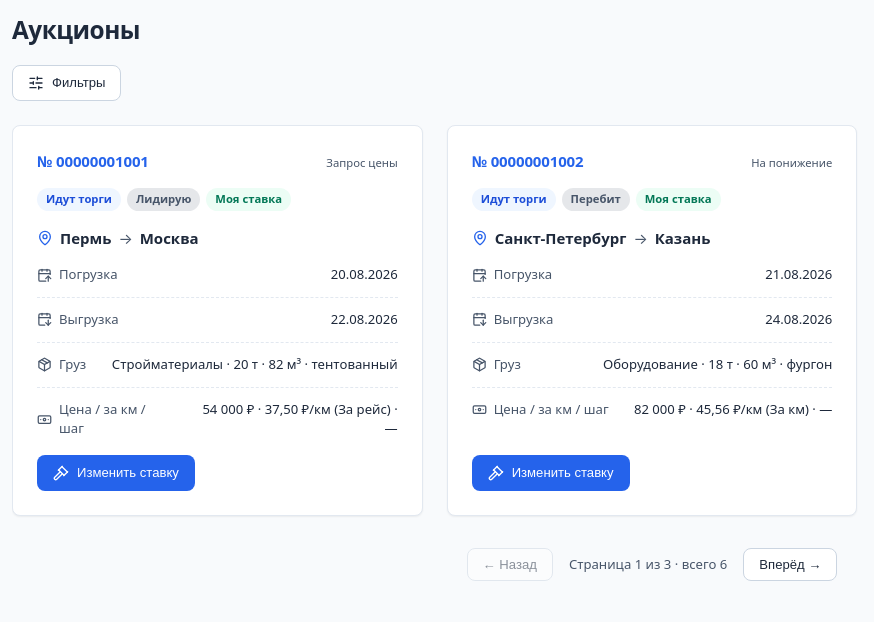
Test: auctions list — filters and pagination › paginates via meta
The image size is (874, 622).
Check: the text with test id "pagination-info" shows "Страница 1 из 3", box [569, 555, 727, 574]
Step 1. Click the button "Вперёд →" → {"x": 790, "y": 564}, box [743, 548, 837, 581]
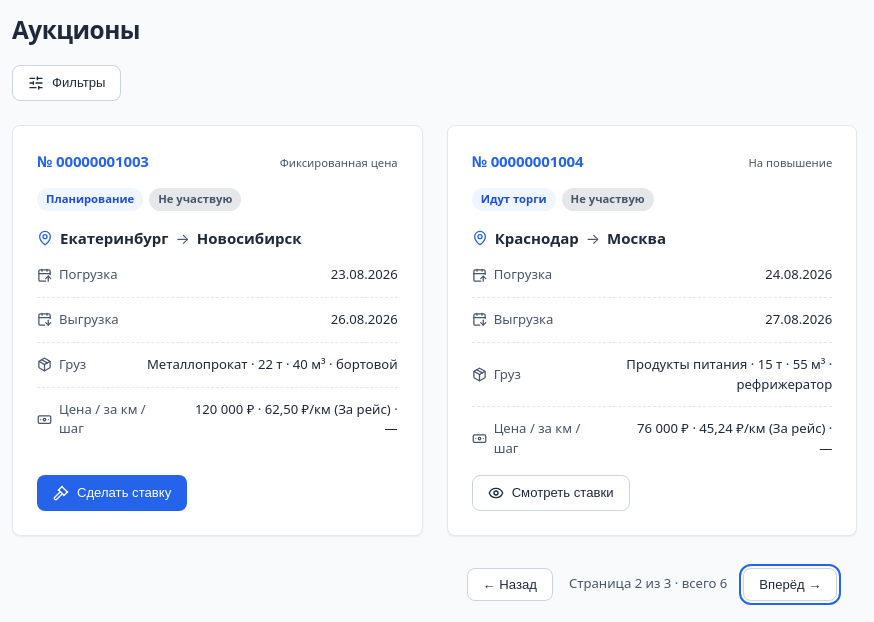
Check: the text with test id "pagination-info" shows "Страница 2 из 3", box [569, 574, 727, 594]
